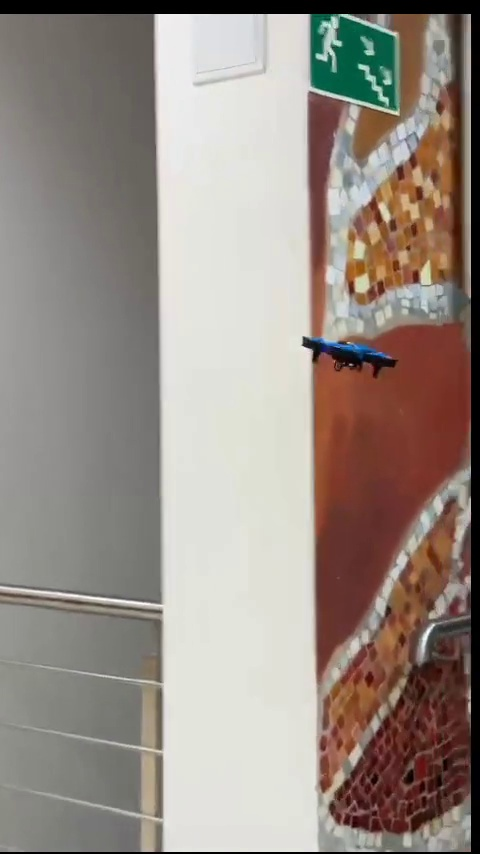drone: (303, 336, 397, 381)
